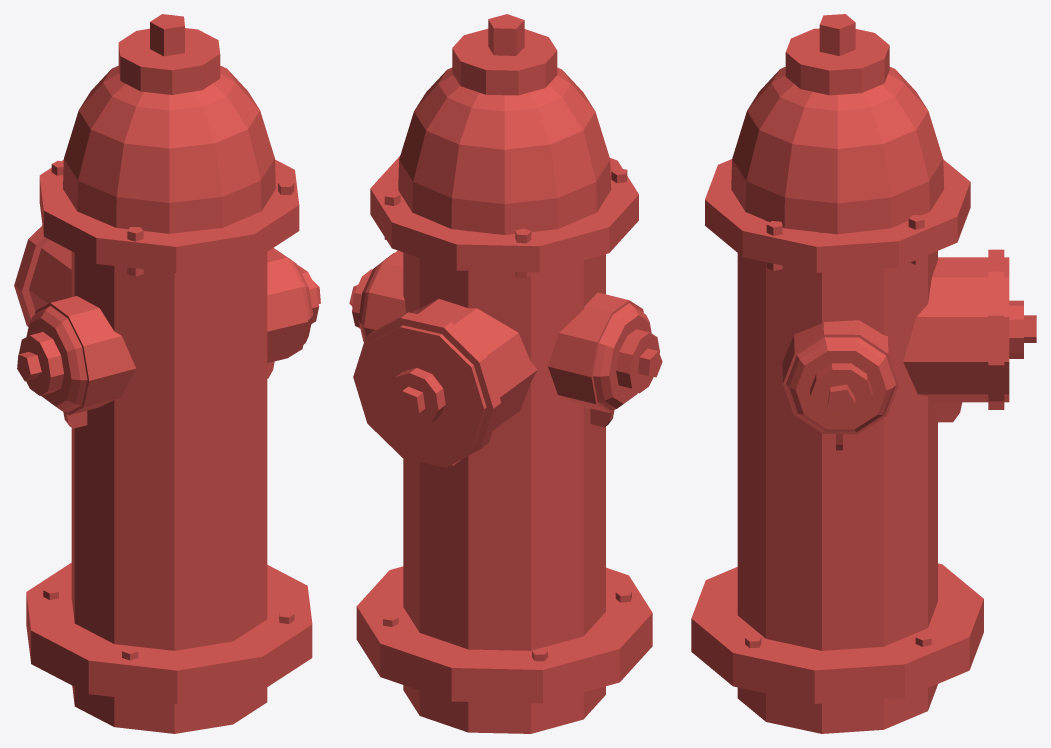
The model's file is Fire Hydrant.fbx.
The picture shows the model from 3 angles, left to right: view 1: azimuth 30°, elevation 25°; view 2: azimuth 150°, elevation 25°; view 3: azimuth 270°, elevation 25°; orthographic projection.
Visible parts, largest first — view 1: FireHydrant; view 2: FireHydrant; view 3: FireHydrant.
Boxes of the visible parts, x1,y1,x2,y2 form: FireHydrant: (14, 14, 320, 733); FireHydrant: (349, 14, 662, 733); FireHydrant: (691, 14, 1036, 733).
Bounding box in the file's own units: 10706 × 23262 × 10858.
